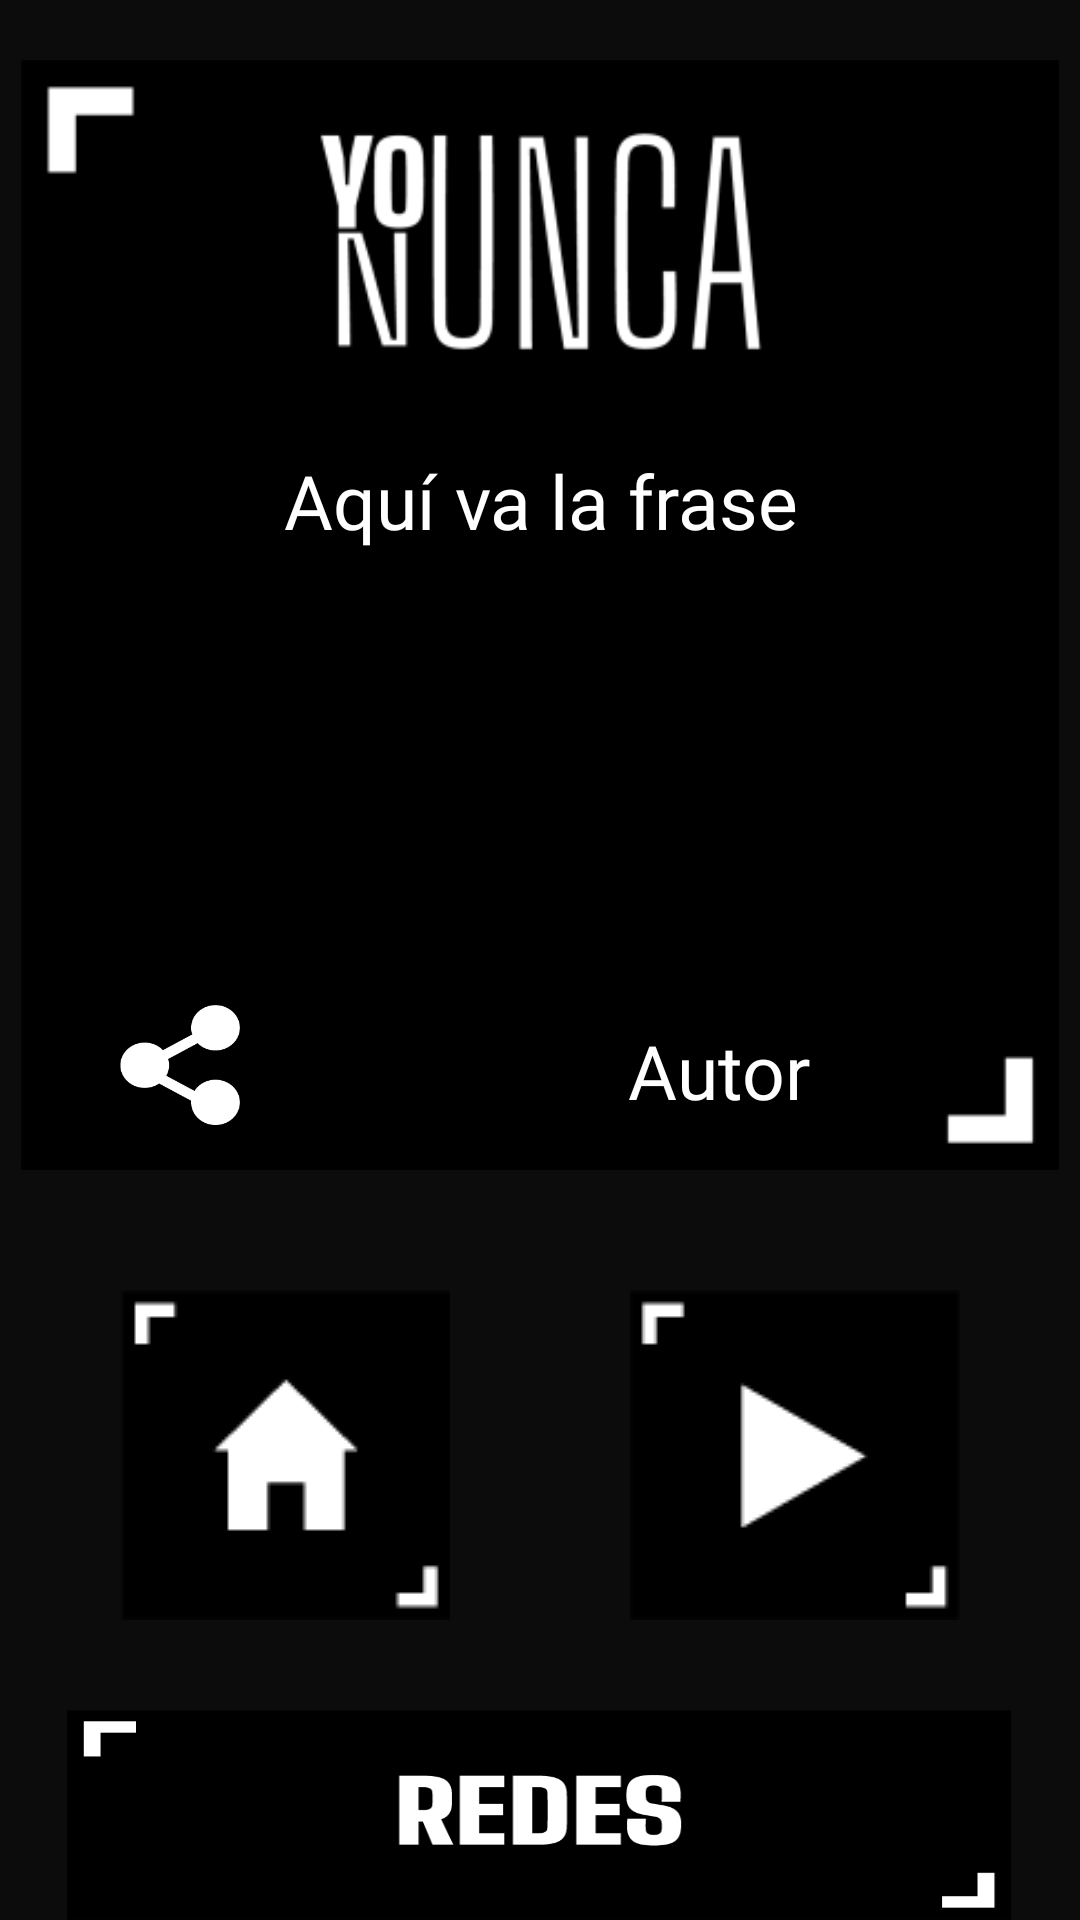

Icon click points for this 1080 x 1920 phone screenshot, format point (x, y):
home: point (286, 1456)
share: point (180, 1065)
siguiente: point (794, 1455)
